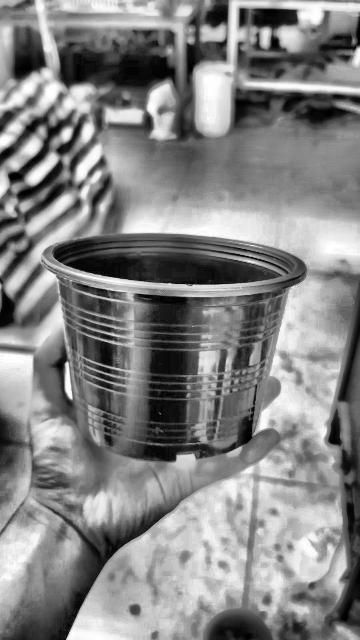pot: (43, 234, 305, 461)
